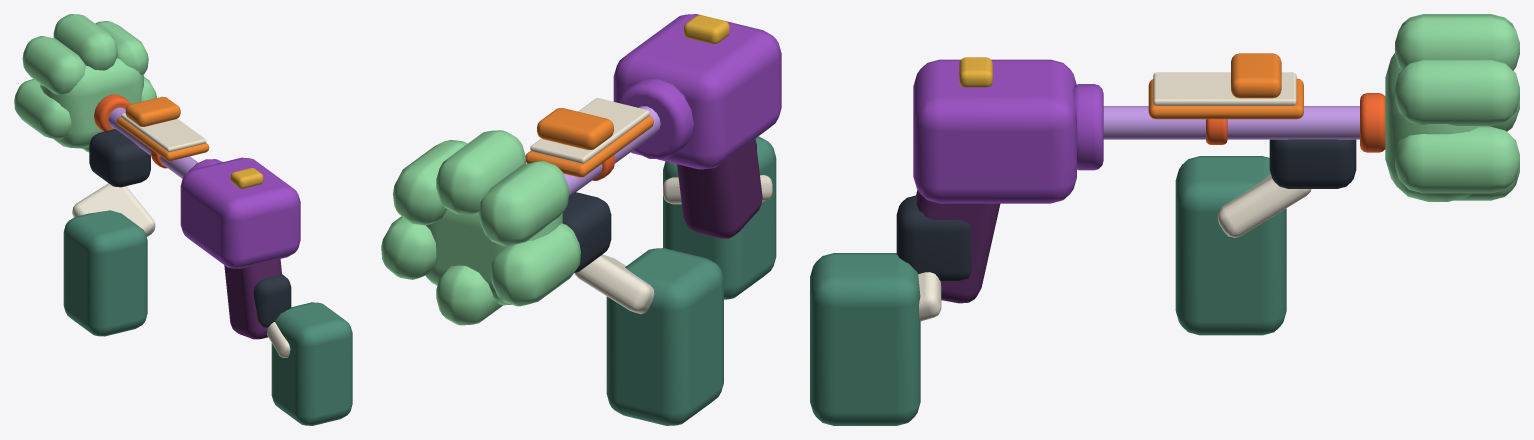
File: mop_launcher.glb
3 renders of one model, left to right at view 1: azimuth 30°, elevation 25°; view 2: azimuth 150°, elevation 25°; view 3: azimuth 270°, elevation 25°, orthographic. The views are drawn at different scales.
Parts seen in each view (by area): view 1: mop_launcher_toy_sleeve, mop_launcher_toy_mop, mop_launcher_toy_violet, mop_launcher_toy_glove, grip, mop_launcher_toy_cuff, mop_launcher_toy_sole, footbed, pole, mop_launcher_toy_nozzle, latch; view 2: mop_launcher_toy_mop, mop_launcher_toy_sleeve, mop_launcher_toy_violet, grip, mop_launcher_toy_sole, mop_launcher_toy_cuff, mop_launcher_toy_glove, footbed, pole, latch; view 3: mop_launcher_toy_sleeve, mop_launcher_toy_violet, mop_launcher_toy_mop, mop_launcher_toy_glove, pole, mop_launcher_toy_sole, mop_launcher_toy_cuff, footbed, grip, mop_launcher_toy_nozzle, latch.
Part boxes in pixels (bbox=[...]): mop_launcher_toy_sleeve: bbox=[63, 210, 352, 425]; mop_launcher_toy_mop: bbox=[14, 14, 156, 152]; mop_launcher_toy_violet: bbox=[180, 157, 300, 268]; mop_launcher_toy_glove: bbox=[89, 129, 291, 327]; grip: bbox=[224, 258, 281, 339]; mop_launcher_toy_cuff: bbox=[72, 183, 290, 357]; mop_launcher_toy_sole: bbox=[117, 96, 209, 161]; footbed: bbox=[121, 113, 206, 152]; pole: bbox=[108, 107, 198, 178]; mop_launcher_toy_nozzle: bbox=[94, 94, 167, 168]; latch: bbox=[230, 168, 263, 188]; mop_launcher_toy_mop: bbox=[381, 130, 580, 325]; mop_launcher_toy_sleeve: bbox=[606, 136, 776, 425]; mop_launcher_toy_violet: bbox=[613, 14, 781, 169]; grip: bbox=[677, 138, 762, 238]; mop_launcher_toy_sole: bbox=[525, 108, 653, 177]; mop_launcher_toy_cuff: bbox=[574, 175, 772, 314]; mop_launcher_toy_glove: bbox=[562, 142, 756, 272]; footbed: bbox=[530, 98, 649, 163]; pole: bbox=[563, 106, 660, 195]; latch: bbox=[683, 15, 729, 44]; mop_launcher_toy_sleeve: bbox=[810, 156, 1286, 425]; mop_launcher_toy_violet: bbox=[913, 59, 1103, 203]; mop_launcher_toy_mop: bbox=[1385, 14, 1519, 201]; mop_launcher_toy_glove: bbox=[896, 139, 1356, 280]; pole: bbox=[1103, 106, 1359, 139]; mop_launcher_toy_sole: bbox=[1148, 53, 1303, 119]; mop_launcher_toy_cuff: bbox=[918, 174, 1311, 321]; footbed: bbox=[1153, 72, 1296, 105]; grip: bbox=[916, 190, 1000, 303]; mop_launcher_toy_nozzle: bbox=[1206, 93, 1385, 152]; latch: bbox=[959, 57, 992, 87].
Size of the model in its own units: 0.5107 by 0.86 by 1.47.
